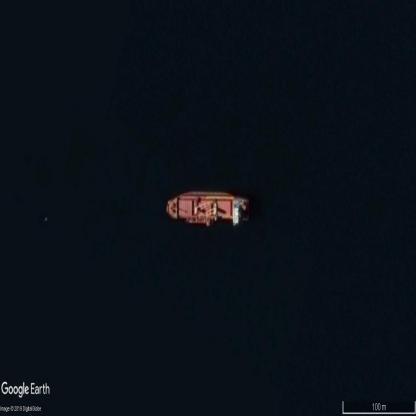ship: (166, 192, 250, 228)
